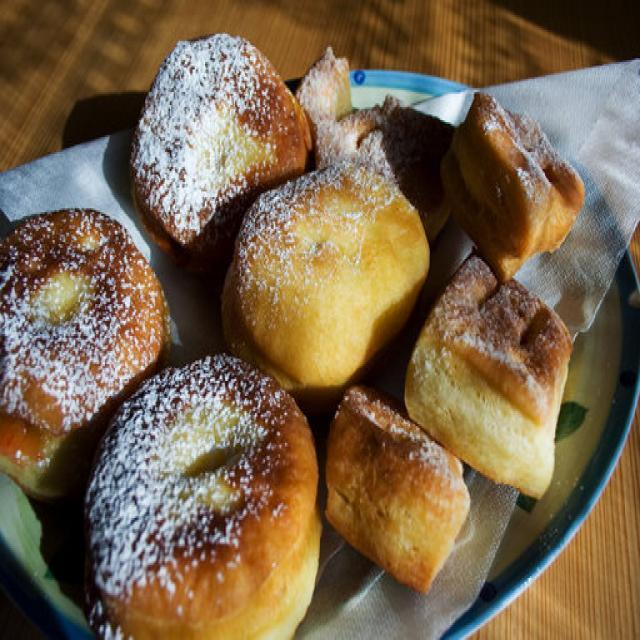Donuts: (6, 34, 618, 640)
